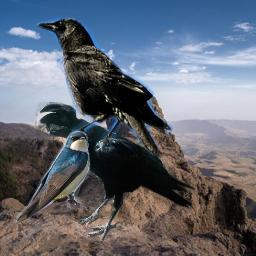Crow: (35, 102, 195, 241), (31, 16, 173, 160)
Swallow: (13, 128, 93, 224)
